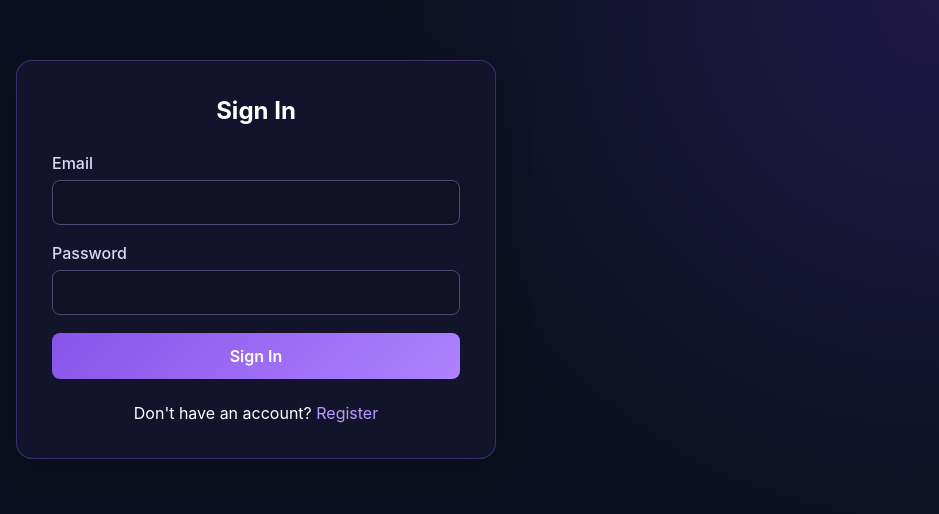
it: Login component behaviour › rejects a successful response without an authentication token
Step 1. Type "test@example.com" into the field labelled "Email" → [256, 202], box [52,180,460,225]
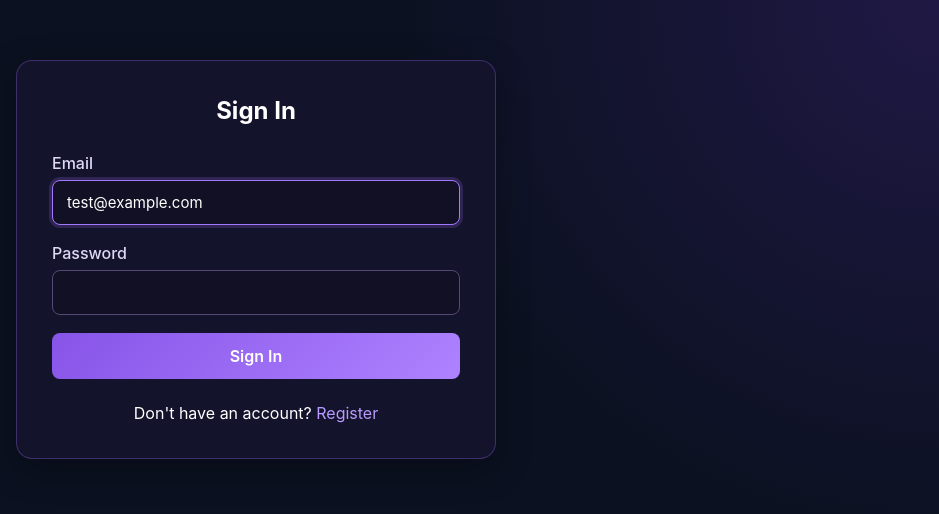
Step 2. Type "TestPassword123" into the password field labelled "Password" → [256, 292], box [52,270,460,315]
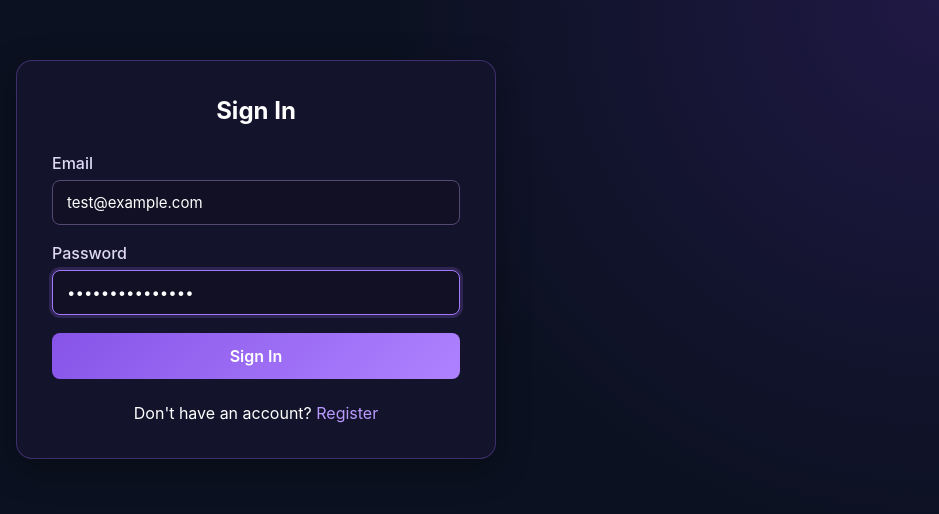
Step 3. Click the button "Sign In" → [256, 356], box [52,333,460,379]
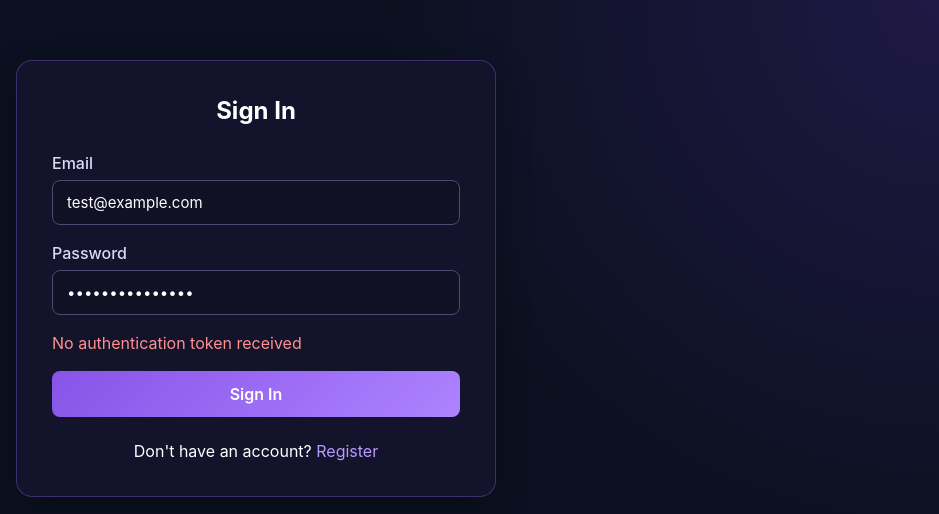
Expected: the message reads "No authentication token received", [52,333,302,353]
